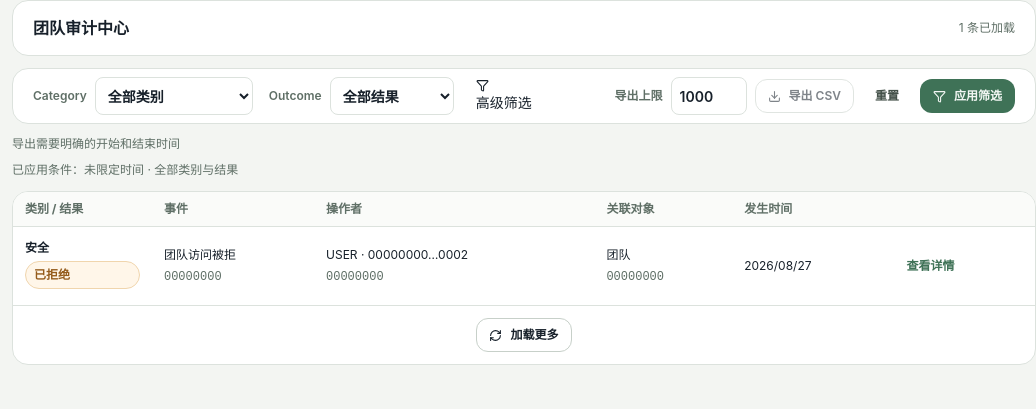
it: AuditExplorer › requires paired Subject filters and valid UUID identifiers
The width and height of the screenshot is (1036, 409).
Step 1. Click the button with class "advanced-toggle" → {"x": 504, "y": 96}, box [470, 78, 538, 114]
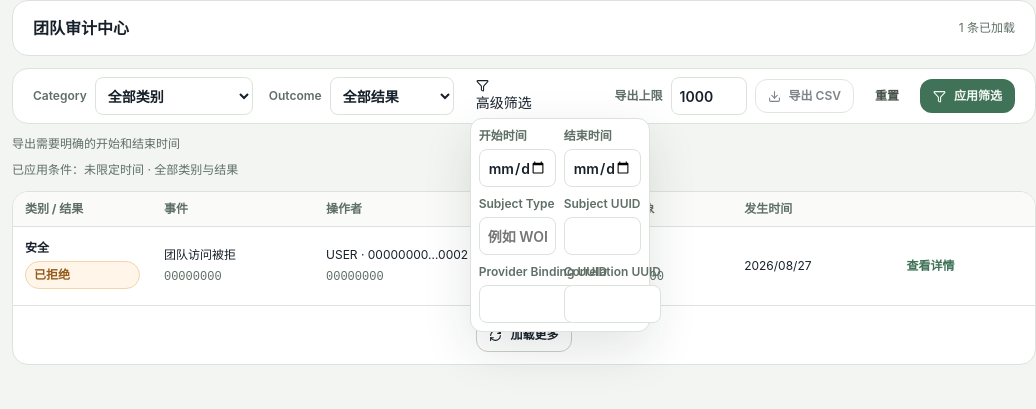
时间区间也在高级筛选 popover 里了；Subject Type 靠 placeholder 定位，不依赖弹层内控件顺序。
Step 2. Type "WORK_ITEM" into the field with placeholder "例如 WORK_ITEM" → {"x": 517, "y": 236}, box [479, 217, 556, 255]
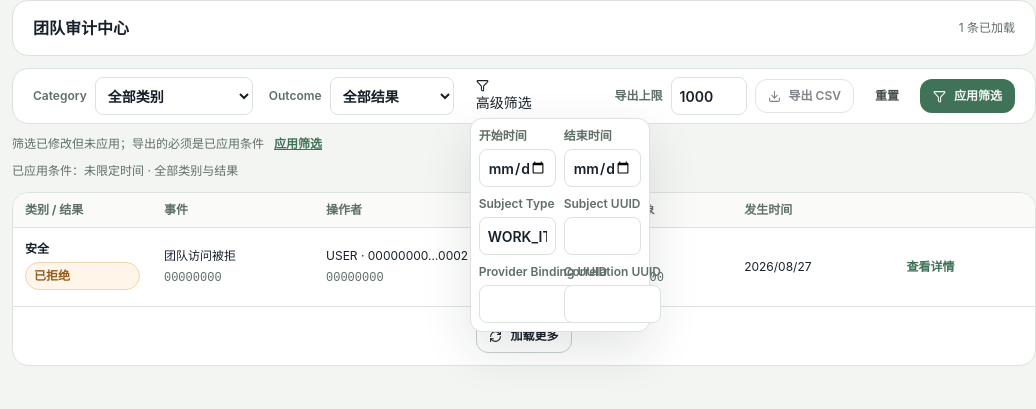
Step 3. Submit the form, box [12, 68, 1035, 180]
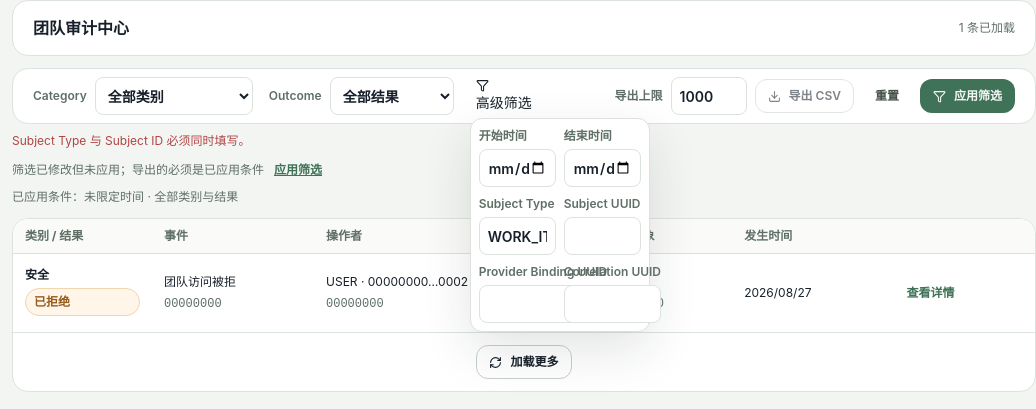
Check: the text "Subject Type 与 Subject ID 必须同时填写" is shown, box [12, 133, 250, 148]
